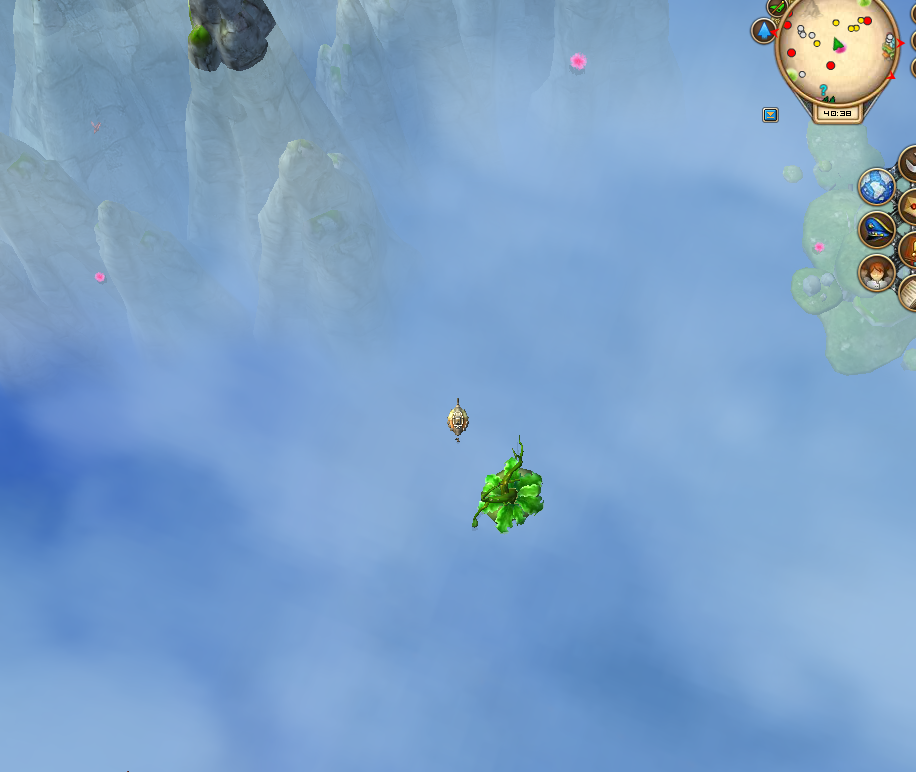dandelion-empty: (467, 441, 548, 539)
fluff: (566, 47, 592, 79), (89, 265, 109, 287)
